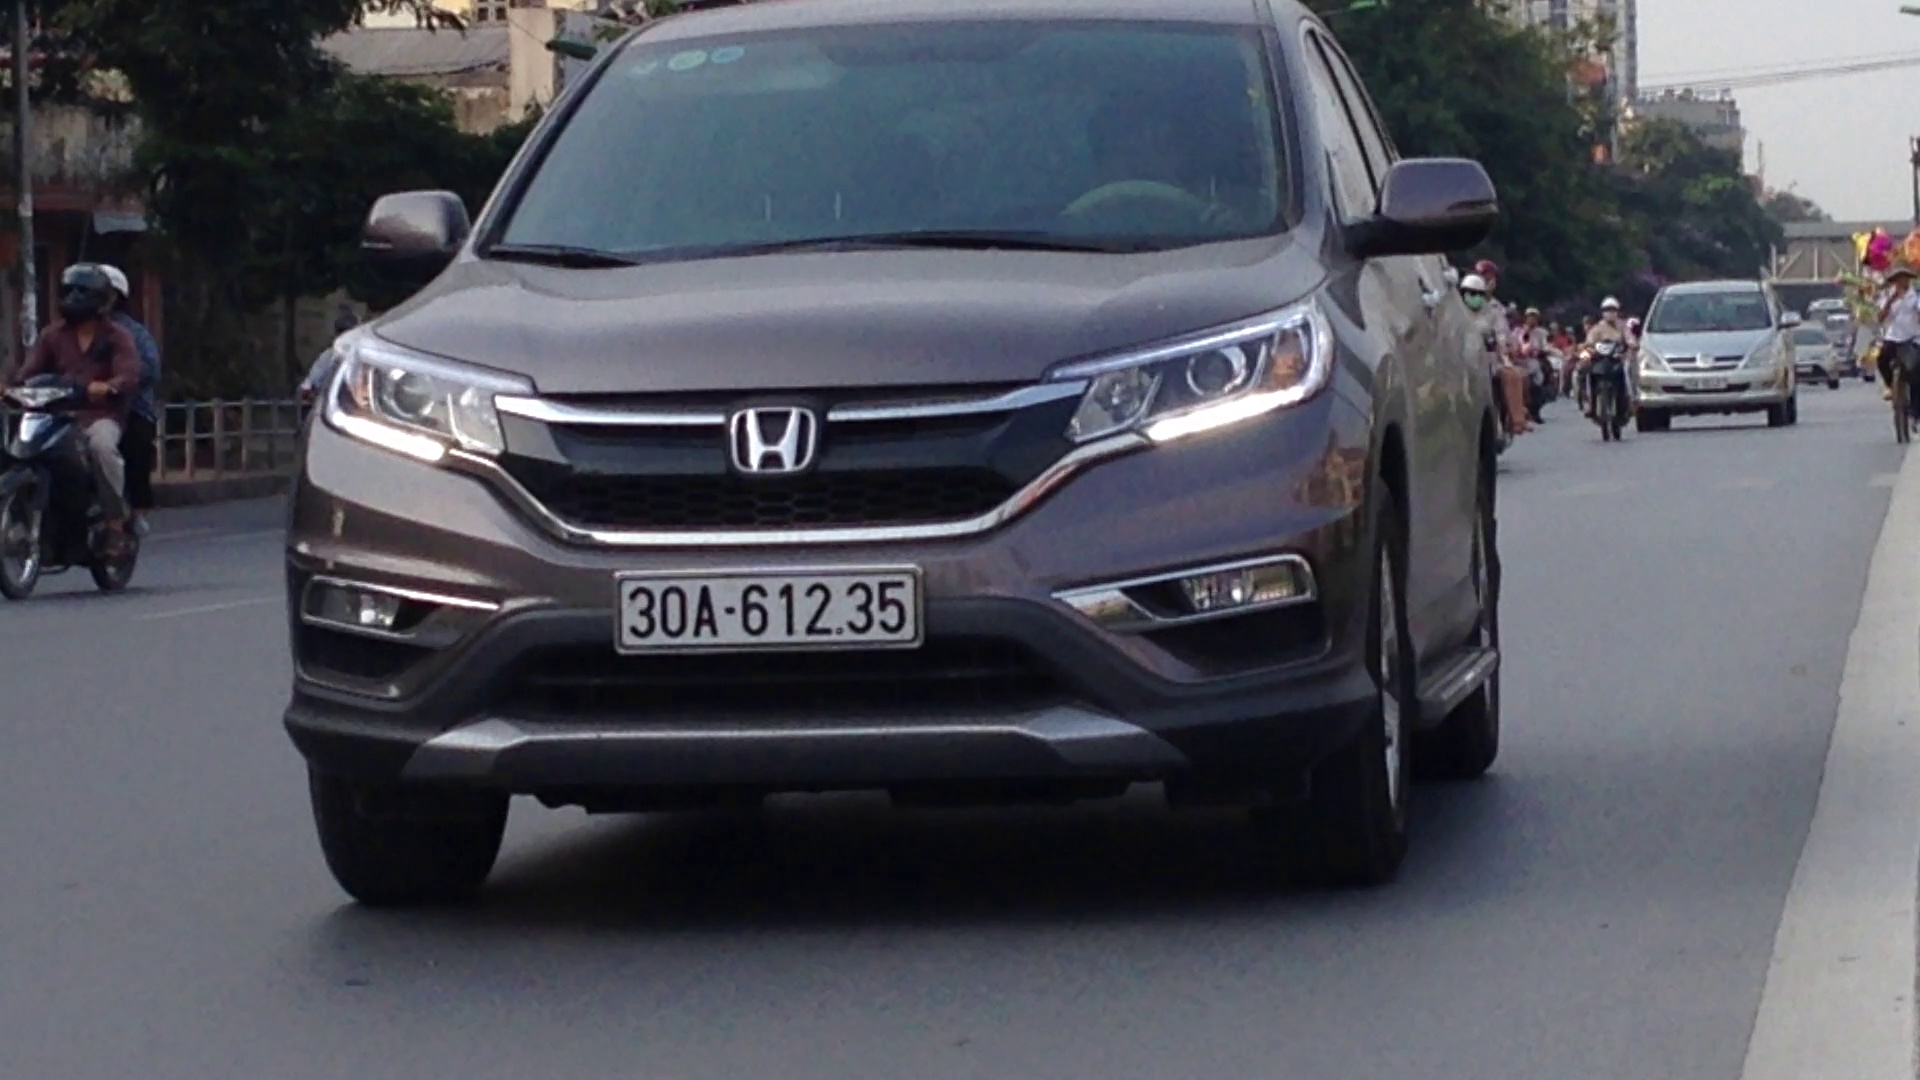person: (607, 564, 925, 652)
